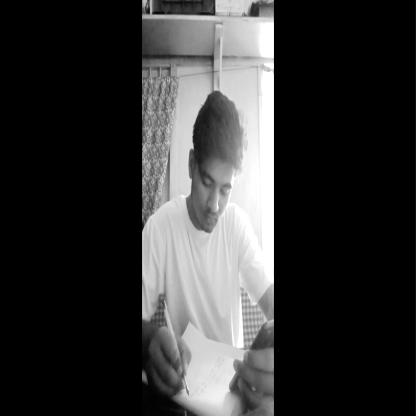Distracted: (188, 90, 240, 231)
